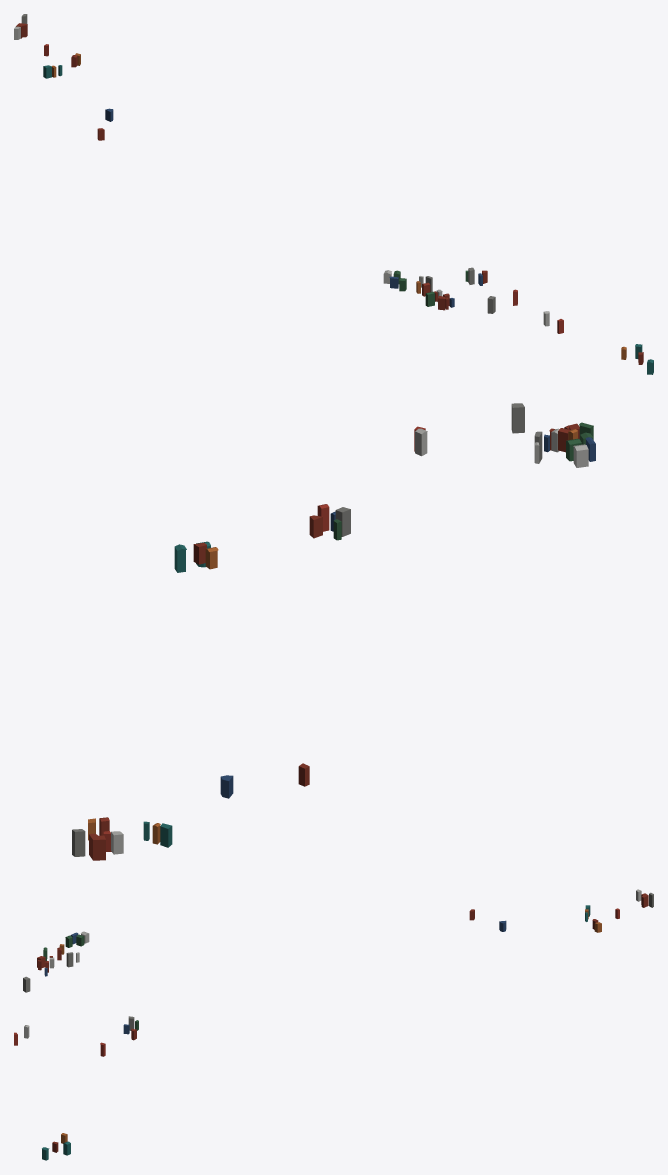
Rendered from near-15-27367-14863.521cb9d7.glb.
3 views of the same model, one above another, from view 1: azimuth 30°, elevation 25°; view 2: azimuth 150°, elevation 25°; view 3: azimuth 270°, elevation 25° (orthographic). The views are drawn at different scales.
Size of the model in its own units: 530 by 278 by 1089.
